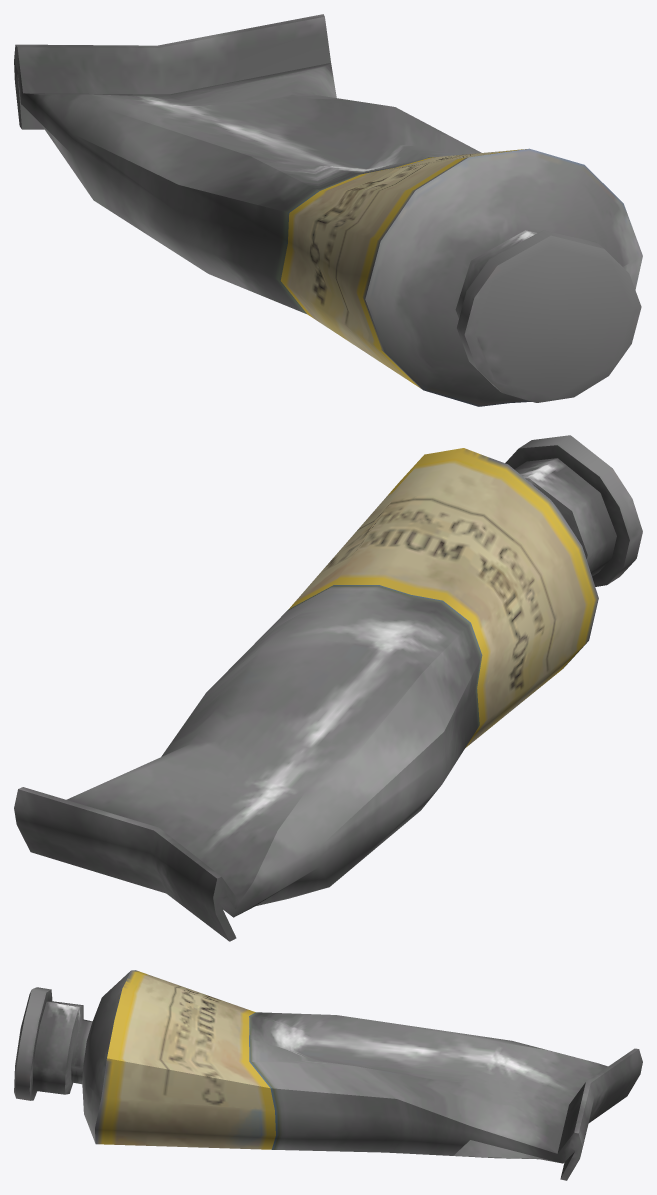
The picture shows the model from 3 angles, top to bottom: view 1: azimuth 30°, elevation 25°; view 2: azimuth 150°, elevation 25°; view 3: azimuth 270°, elevation 25°; orthographic projection. The views are drawn at different scales.
Parts seen in each view (by area): view 1: SM_Tube_4; view 2: SM_Tube_4; view 3: SM_Tube_4.
Part boxes in pixels (x1=…): SM_Tube_4: x1=14, y1=14, x2=642, y2=406; SM_Tube_4: x1=14, y1=435, x2=642, y2=941; SM_Tube_4: x1=14, y1=970, x2=642, y2=1180.
Size of the model in its own units: 0.0494 by 0.0378 by 0.1329.
1 material, 1 textured.
